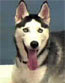dog: (8, 0, 64, 82)
